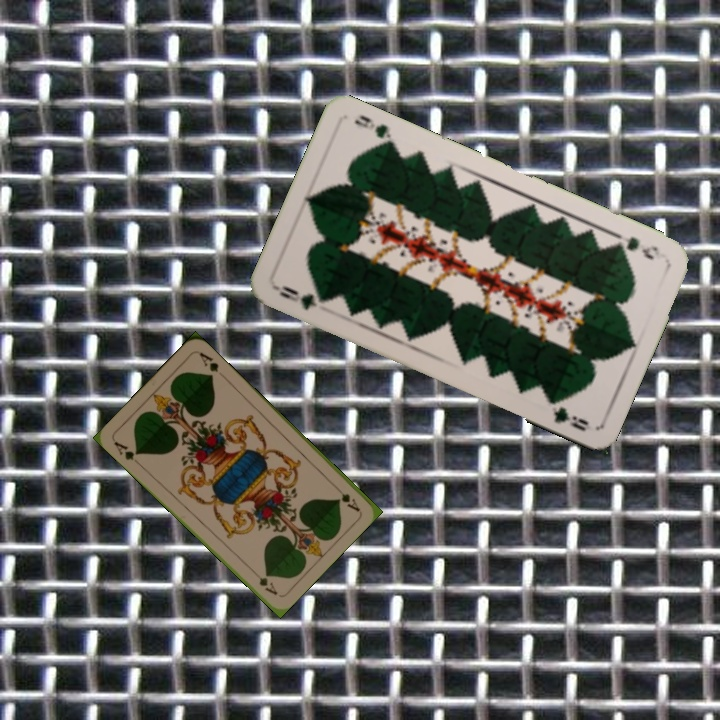G9: (609, 229, 668, 263), (272, 281, 330, 313)
GA: (329, 481, 362, 514), (110, 437, 141, 463)
